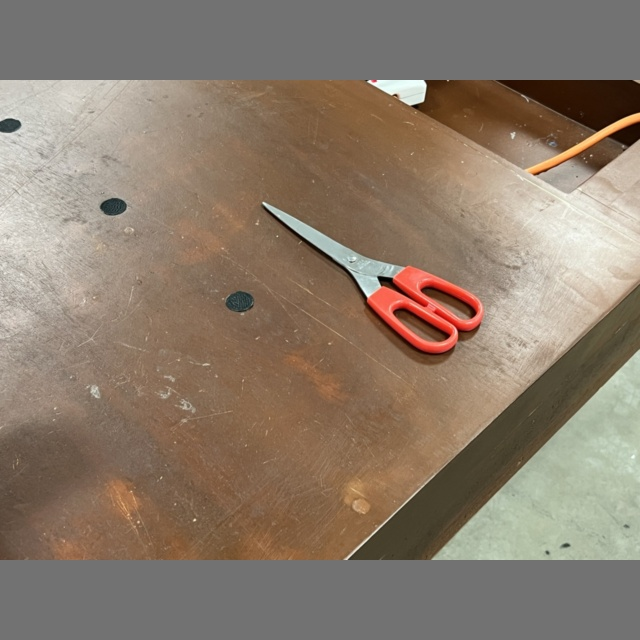scissor: (262, 202, 484, 353)
